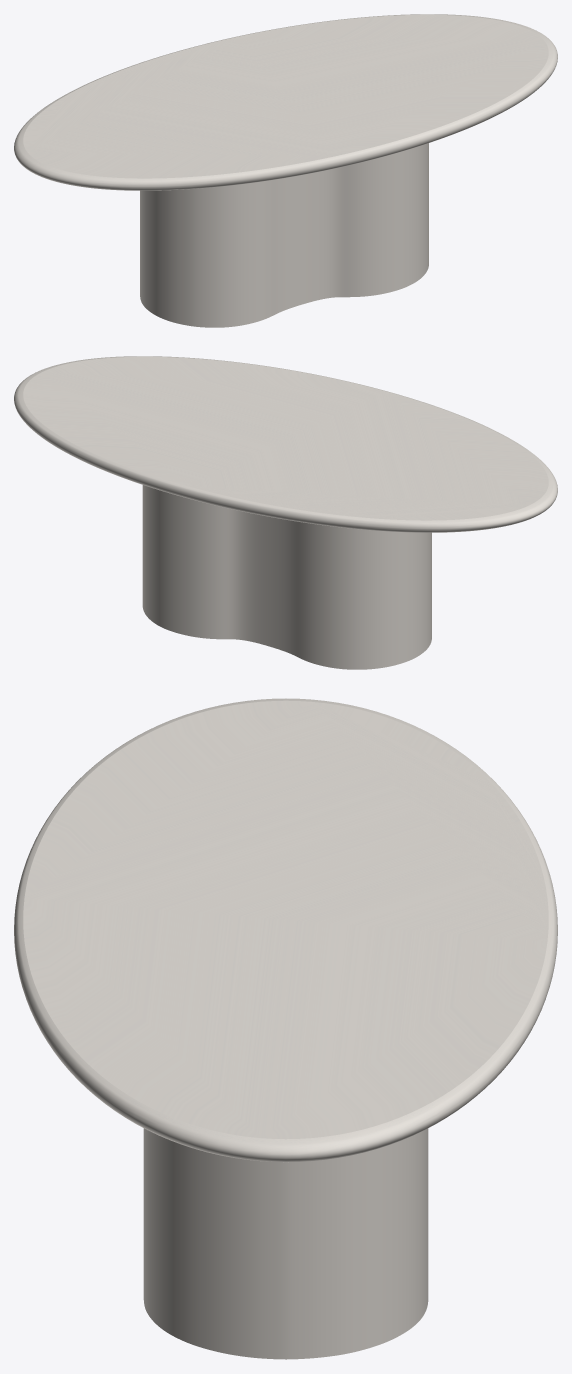
The model's file is pearlwhite_ellips_round_riverwave.glb.
3 renders of one model, top to bottom at view 1: azimuth 30°, elevation 25°; view 2: azimuth 150°, elevation 25°; view 3: azimuth 270°, elevation 25°, orthographic. The views are drawn at different scales.
Parts seen in each view (by area): view 1: round_ellips, riverwave; view 2: round_ellips, riverwave; view 3: round_ellips, riverwave.
Part boxes in pixels (x1,y1,x2,y2): round_ellips: [14, 14, 557, 190]; riverwave: [140, 143, 428, 327]; round_ellips: [14, 356, 557, 532]; riverwave: [142, 485, 431, 669]; round_ellips: [14, 698, 557, 1162]; riverwave: [143, 1128, 428, 1359].
Bounding box in the file's own units: 7.5 × 2.5 × 3.8.
Materials: 1 (1 with a texture image).
